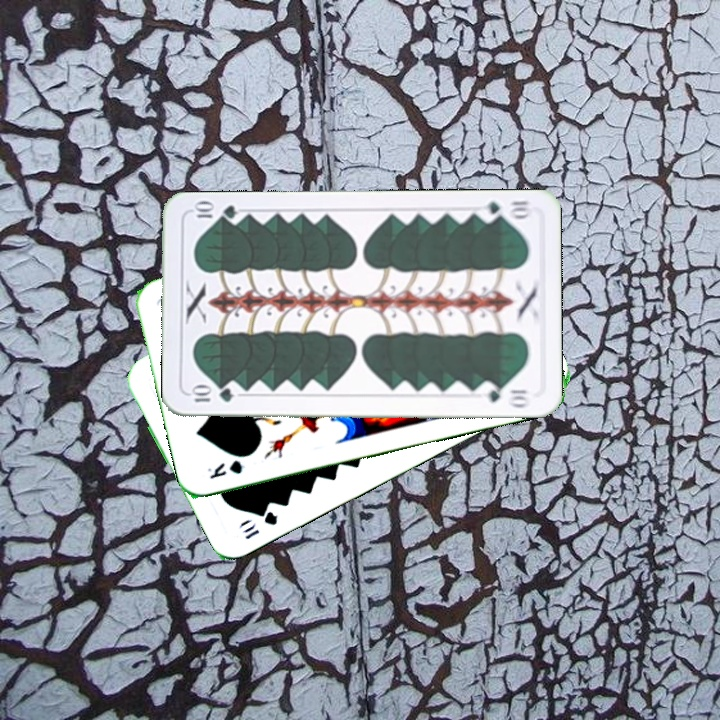G10: (475, 196, 534, 224), (238, 507, 280, 542), (187, 384, 236, 405)
GK: (203, 456, 248, 482)
